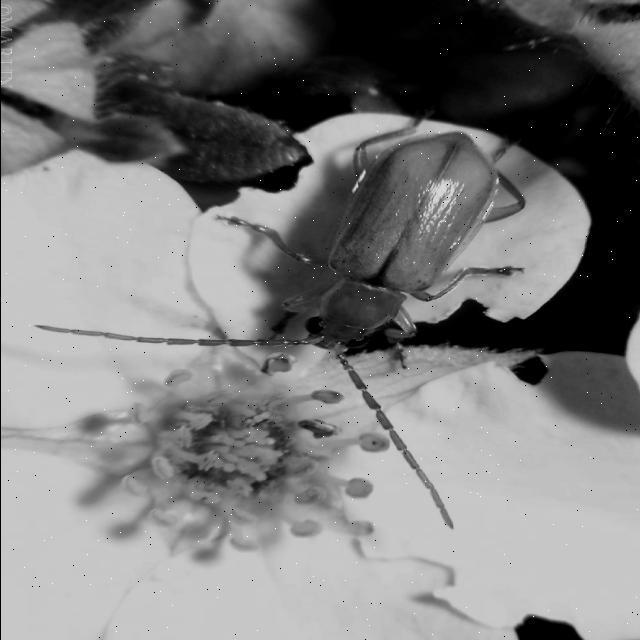gusano_gris: (36, 108, 526, 528)
